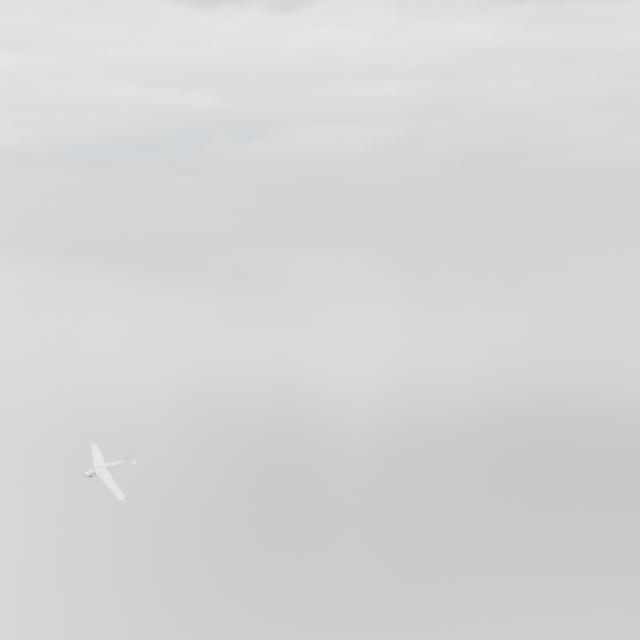Airaplan: (82, 442, 136, 500)
